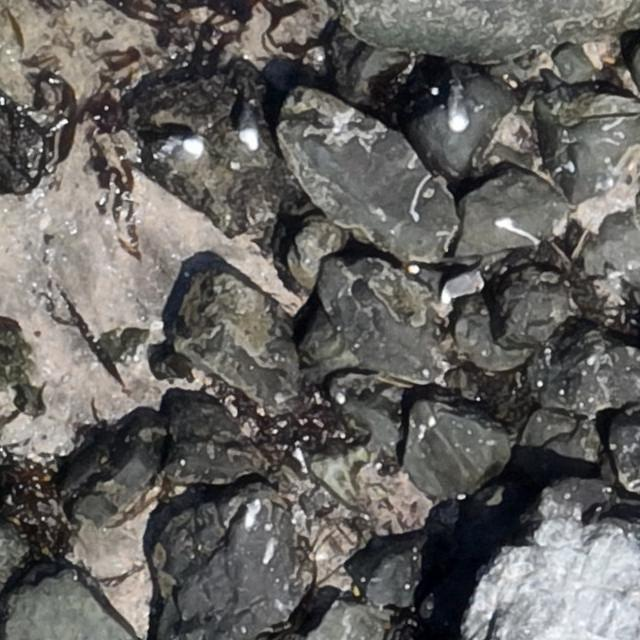umineko: (170, 140, 205, 166), (241, 112, 259, 150), (448, 99, 467, 132)
